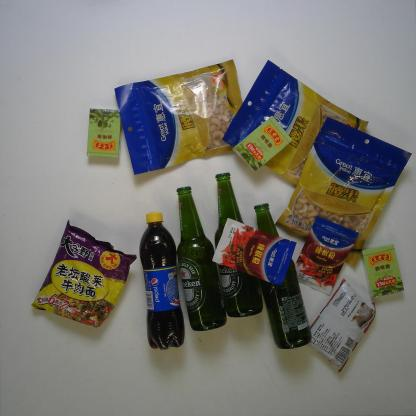Alcohol: (249, 198, 311, 350), (172, 182, 231, 334), (212, 172, 266, 320)
Candy: (231, 115, 293, 172), (362, 244, 405, 298), (86, 108, 125, 162)
Dried Fruit: (277, 118, 412, 265), (223, 59, 370, 186), (114, 59, 250, 176)
Drink: (139, 212, 186, 352)
Instant Noodles: (30, 219, 138, 329)
Seasoner: (304, 278, 376, 371), (211, 217, 297, 285), (296, 216, 359, 295)
